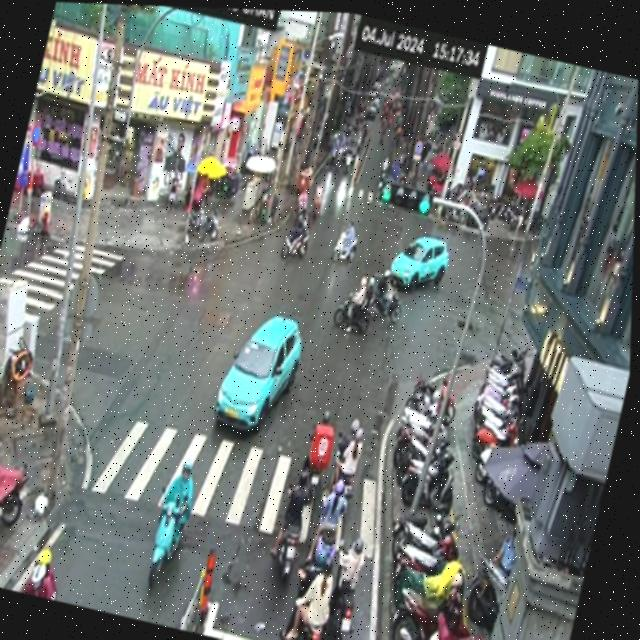Green: (375, 167, 439, 222)
